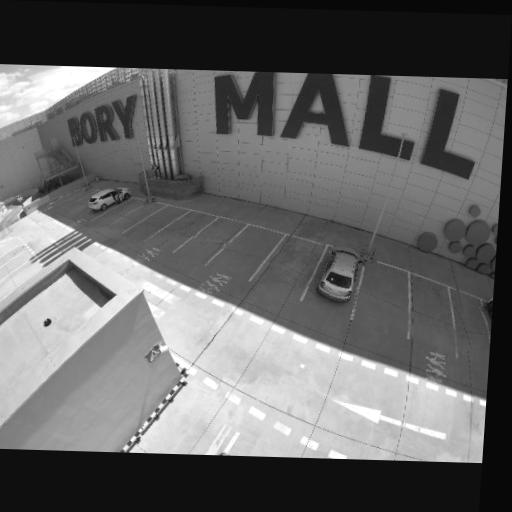busy: (314, 244, 369, 303), (86, 187, 133, 215)
free: (408, 293, 453, 342), (357, 276, 409, 315), (267, 251, 316, 285), (454, 306, 491, 350), (223, 239, 266, 270), (194, 229, 226, 251), (171, 221, 199, 236), (126, 207, 147, 223), (114, 205, 136, 216), (148, 217, 169, 228), (59, 194, 75, 204), (73, 201, 89, 208)
